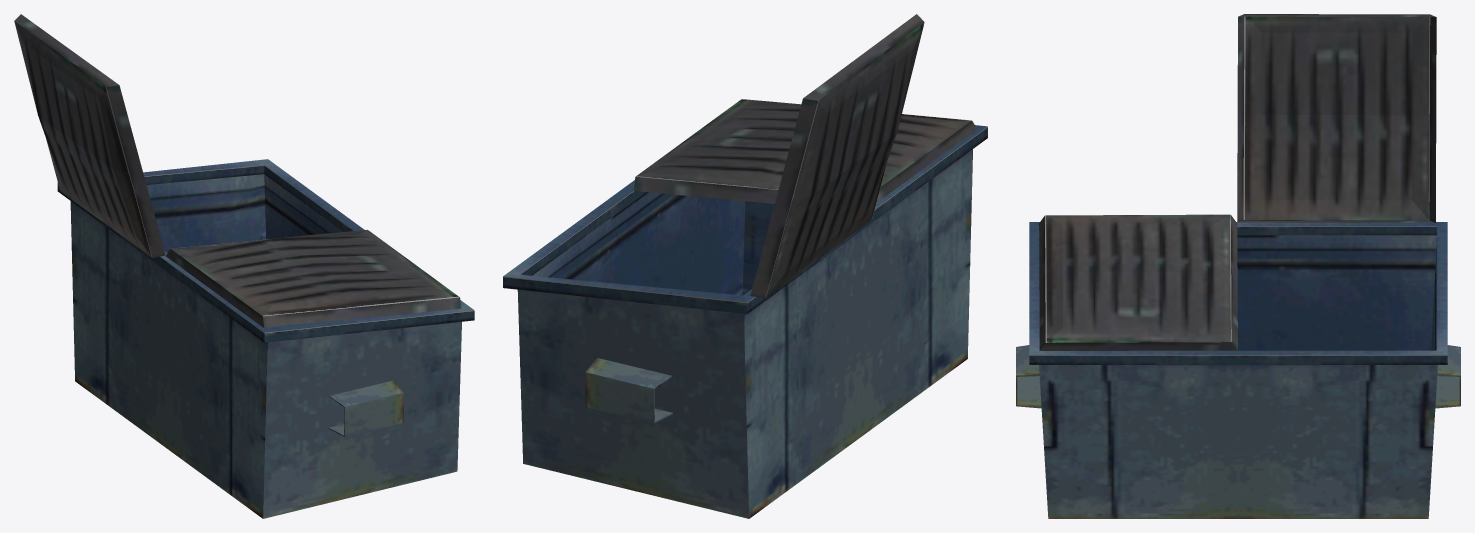
File: Urban_DumpsterDiagonalEmptyOpenBlue_Model.fbx
3 renders of one model, left to right at view 1: azimuth 30°, elevation 25°; view 2: azimuth 150°, elevation 25°; view 3: azimuth 270°, elevation 25°, orthographic. The views are drawn at different scales.
Visible parts, largest first — view 1: Urban_DumpsterDiagonalEmptyOpenBlue_Mesh; view 2: Urban_DumpsterDiagonalEmptyOpenBlue_Mesh; view 3: Urban_DumpsterDiagonalEmptyOpenBlue_Mesh.
Part boxes in pixels (x1,y1,x2,y2): Urban_DumpsterDiagonalEmptyOpenBlue_Mesh: (14, 14, 474, 518); Urban_DumpsterDiagonalEmptyOpenBlue_Mesh: (503, 14, 987, 518); Urban_DumpsterDiagonalEmptyOpenBlue_Mesh: (1016, 14, 1460, 518).
Bounding box in the file's own units: 2.53 × 3.48 × 3.67.
